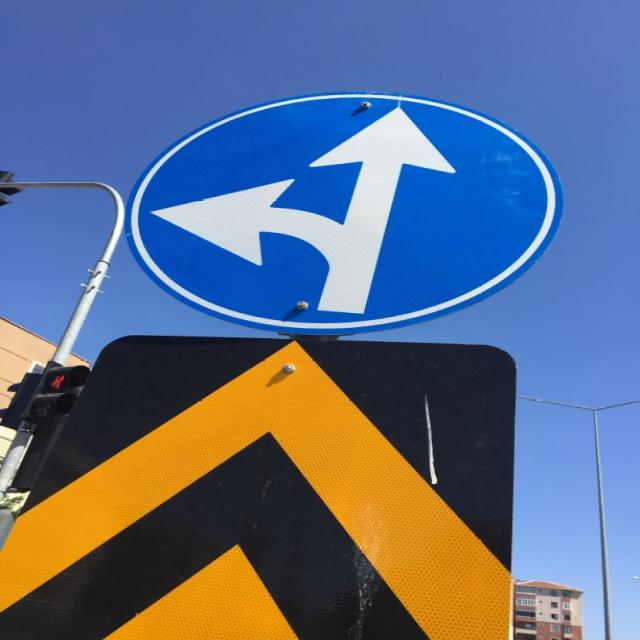ilerisol: (128, 92, 564, 334)
